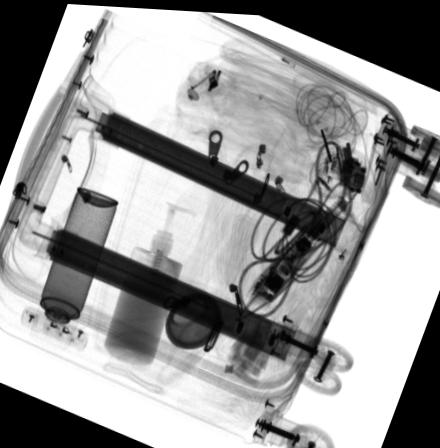Sprayer: (31, 185, 119, 349)
